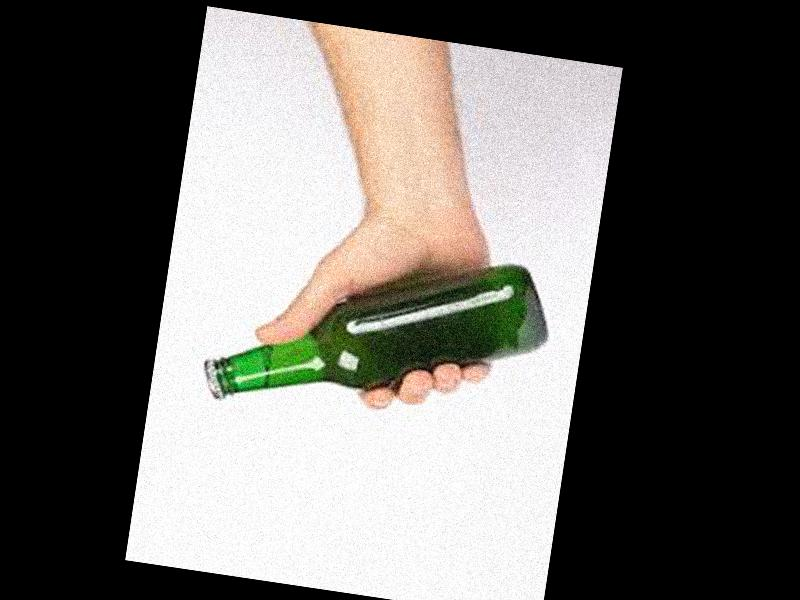Beer: (197, 221, 554, 444)
